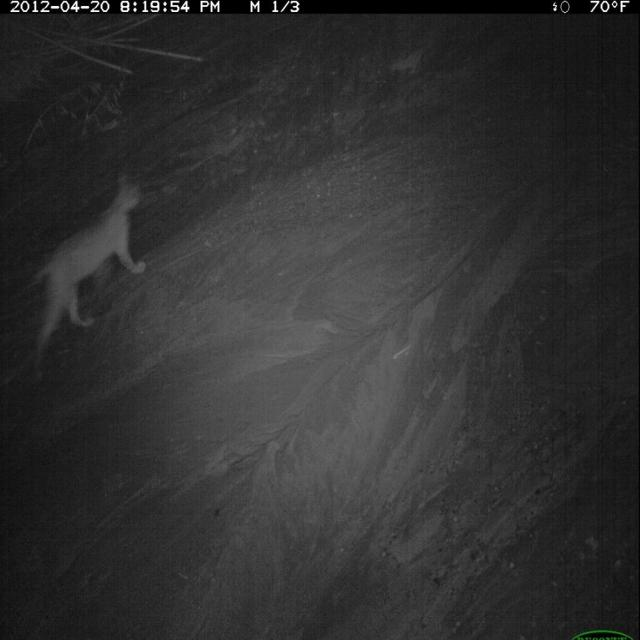bobcat: (26, 165, 149, 387)
